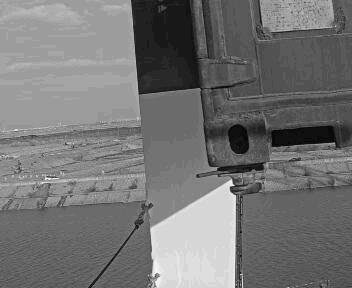twist_lock_1: (212, 160, 270, 201)
